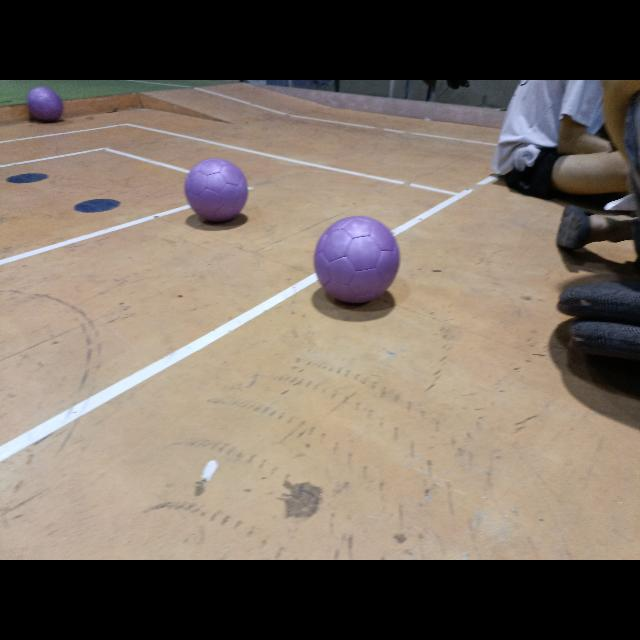P: (314, 215, 400, 302), (185, 158, 248, 222), (27, 86, 63, 122)
